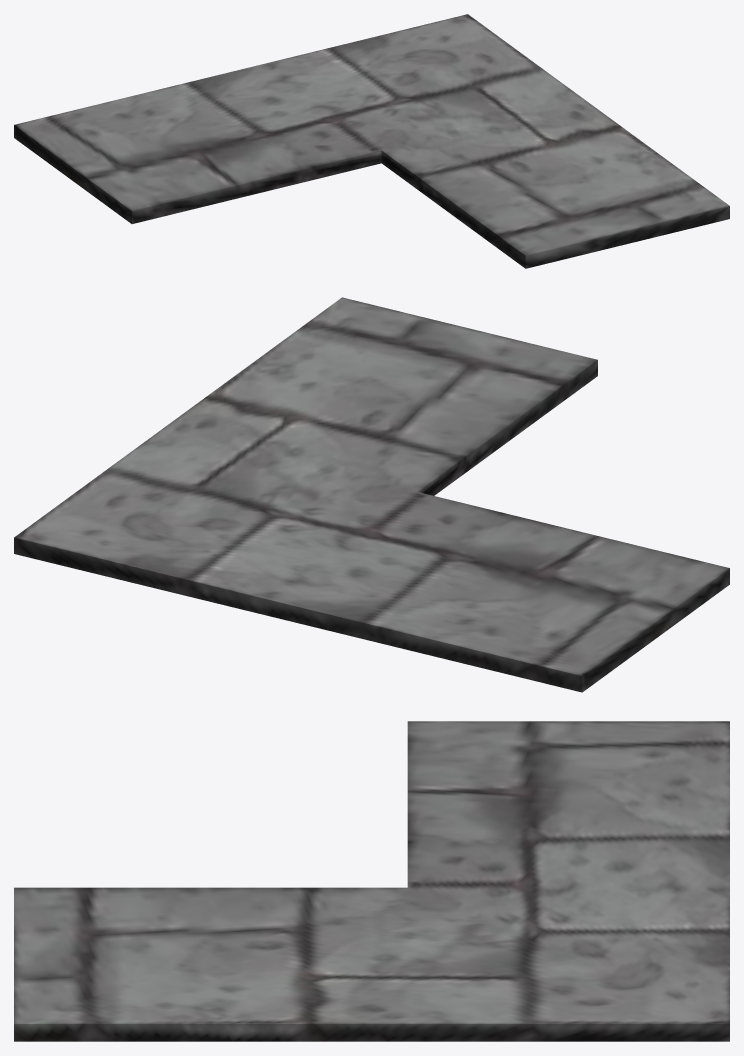
3 renders of one model, top to bottom at view 1: azimuth 30°, elevation 25°; view 2: azimuth 150°, elevation 25°; view 3: azimuth 270°, elevation 25°, orthographic. The views are drawn at different scales.
Visible parts, largest first — view 1: Floor inner Corner Module; view 2: Floor inner Corner Module; view 3: Floor inner Corner Module.
Part boxes in pixels (box(x1,y1,x2,y2)): Floor inner Corner Module: box(14, 14, 729, 268); Floor inner Corner Module: box(14, 297, 729, 692); Floor inner Corner Module: box(14, 721, 729, 1041).
Size of what is drawn, in the model's own units: 4.09 by 0.1125 by 4.09.
1 material, 1 textured.
